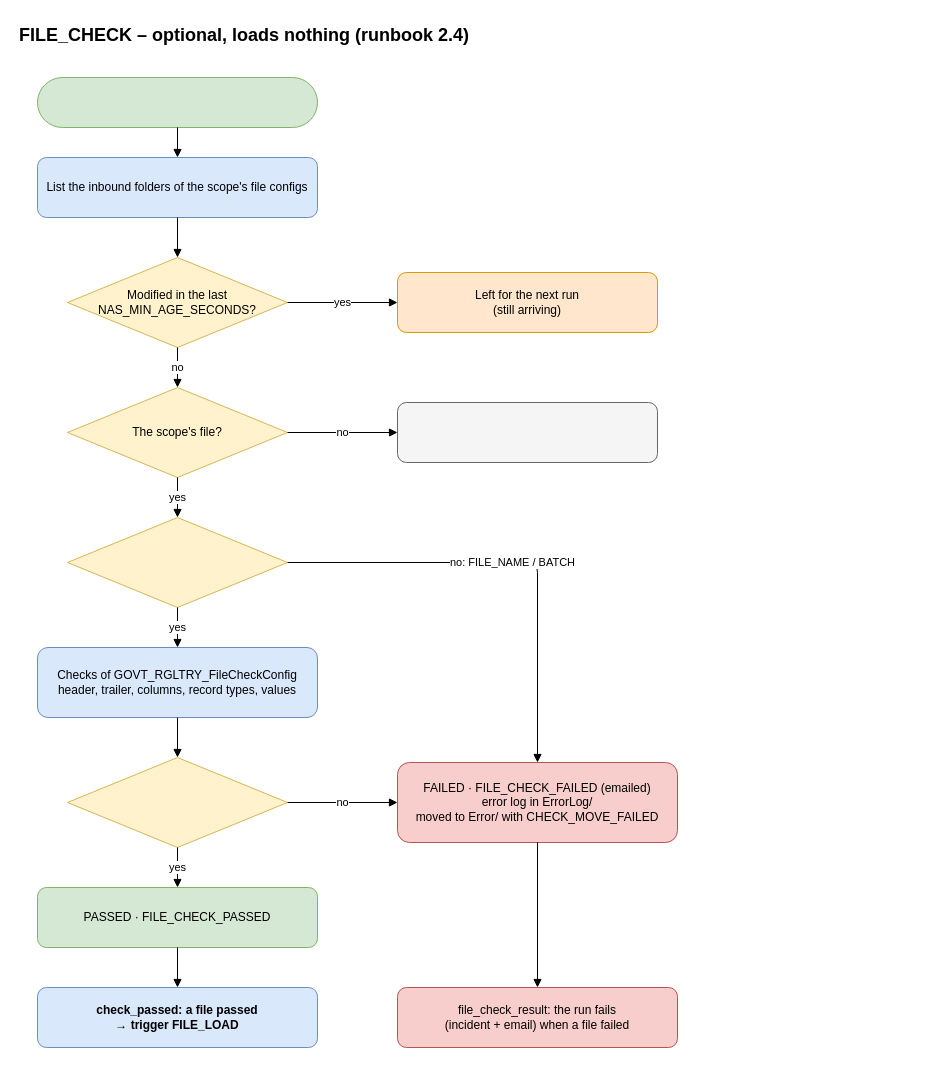
The diagram is 934 pixels wide and 1065 high, and some of its shapes have lost their labels. Each missing label, with the centre of its shape:
All checks passed?: the point at 177,802
FILE_CHECK run (scope): the point at 177,102
Name fits one template, open batch for its dates?: the point at 177,562
not checked: reason in the log (another project's, other run type): the point at 527,432
